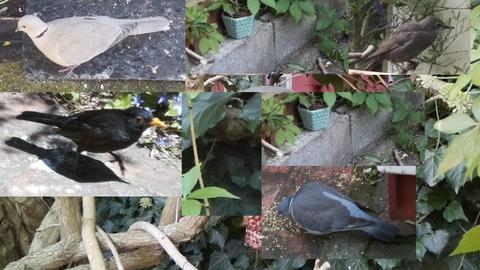blackbird: (15, 107, 167, 182)
collared dove: (15, 15, 170, 77)
starling: (364, 15, 455, 75)
wood pigeon: (277, 181, 401, 244)
